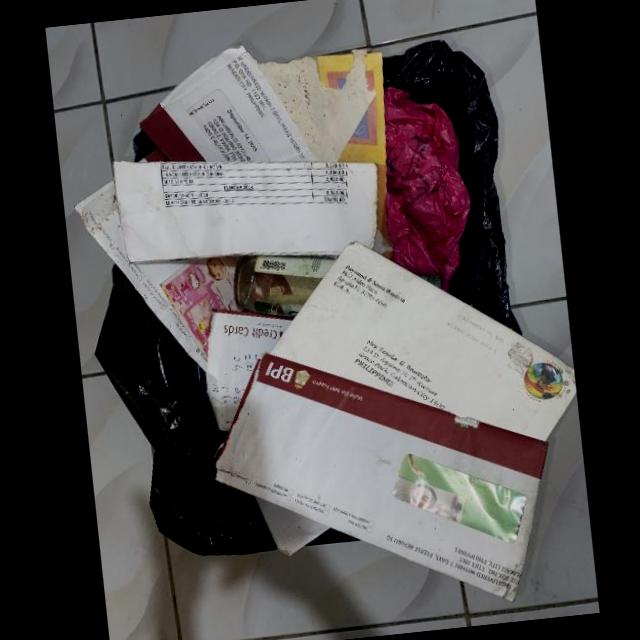giay: (212, 352, 548, 602), (271, 239, 576, 443), (73, 177, 245, 375), (257, 50, 395, 258), (111, 157, 379, 262), (138, 47, 317, 164), (206, 305, 293, 433)
tui_ni_long: (384, 88, 470, 294)
